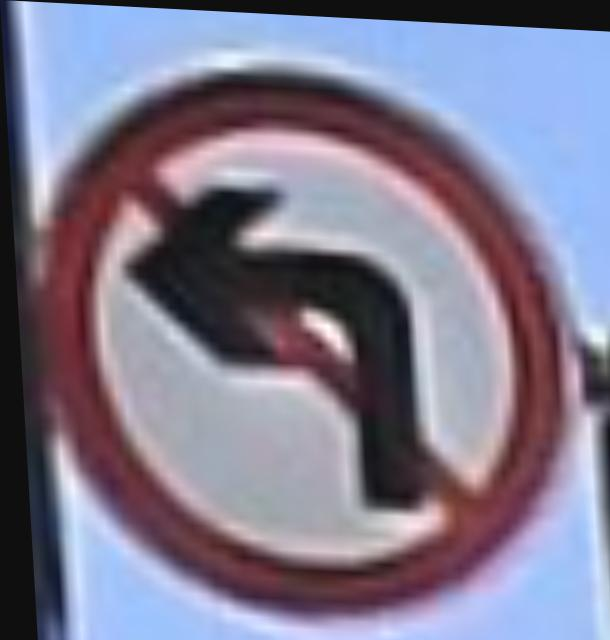not_turn_left: (30, 34, 574, 626)
